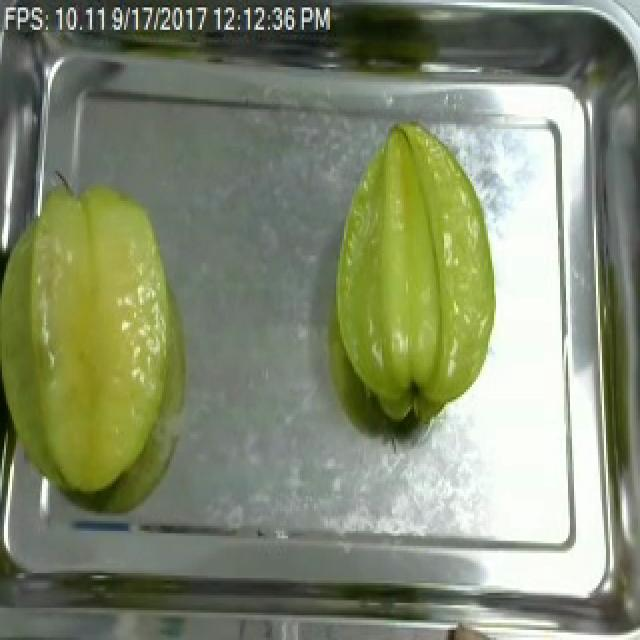fruit: (0, 169, 194, 511), (322, 106, 504, 436)
